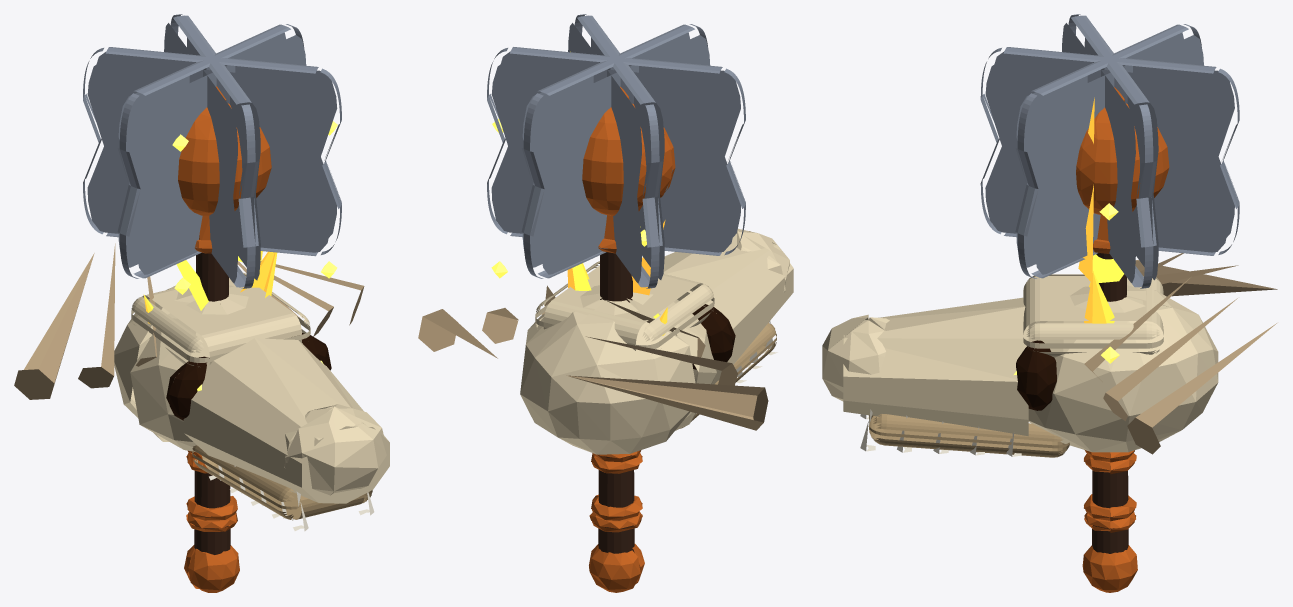
Rendered from dragonmaw_mace.glb.
The picture shows the model from 3 angles, left to right: view 1: azimuth 30°, elevation 25°; view 2: azimuth 150°, elevation 25°; view 3: azimuth 270°, elevation 25°; orthographic projection.
Visible parts, largest first — view 1: dragonmaw_mace; view 2: dragonmaw_mace; view 3: dragonmaw_mace.
Boxes of the visible parts, x1,y1,x2,y2 form: dragonmaw_mace: (14, 14, 389, 592); dragonmaw_mace: (418, 14, 793, 592); dragonmaw_mace: (822, 14, 1277, 592).
Size of the model in its own units: 0.8134 by 1.19 by 0.9296.
